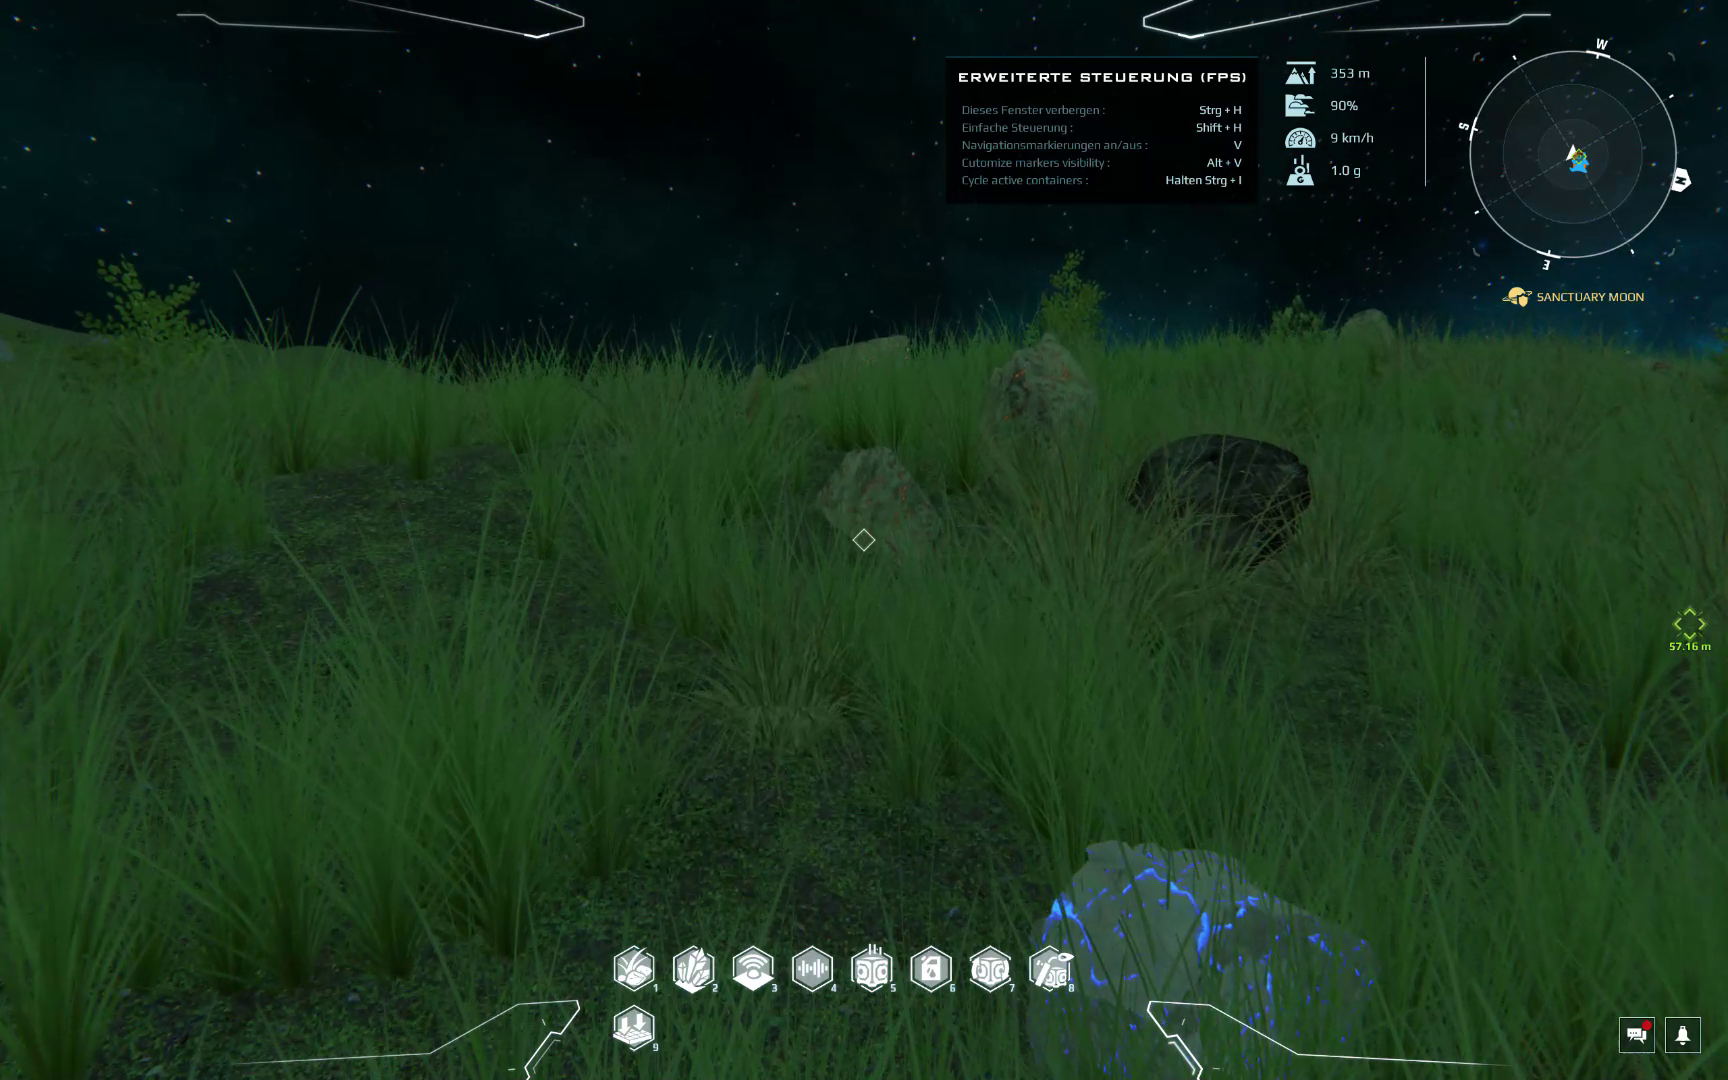Ore: (1018, 837, 1390, 1080), (1132, 433, 1311, 546), (987, 335, 1092, 494), (817, 442, 941, 562), (791, 331, 911, 394)
